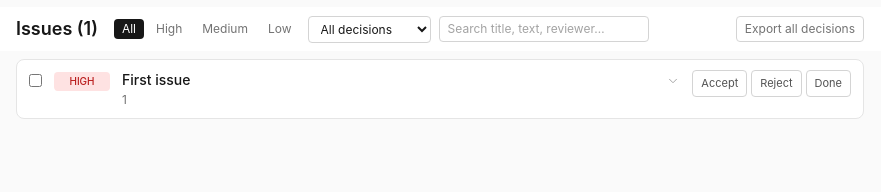
Test: IssuesTable annotation lifecycle › shows save failures and retries without losing the edit
Click the button titled "accept" at {"x": 720, "y": 83}, box [692,70,747,96]
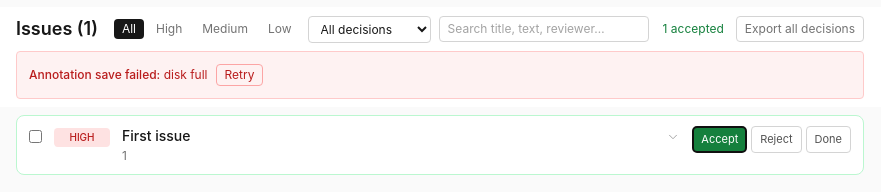
Expected: the message shows "disk full", [164,67,208,82]
Click the button "Retry" at {"x": 239, "y": 75}, box [216,64,263,86]
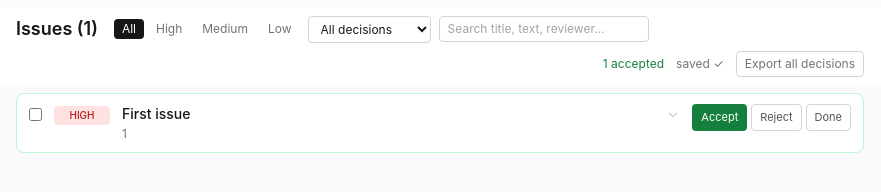
Expected: the message "Annotation save failed: disk full Retry" is gone
